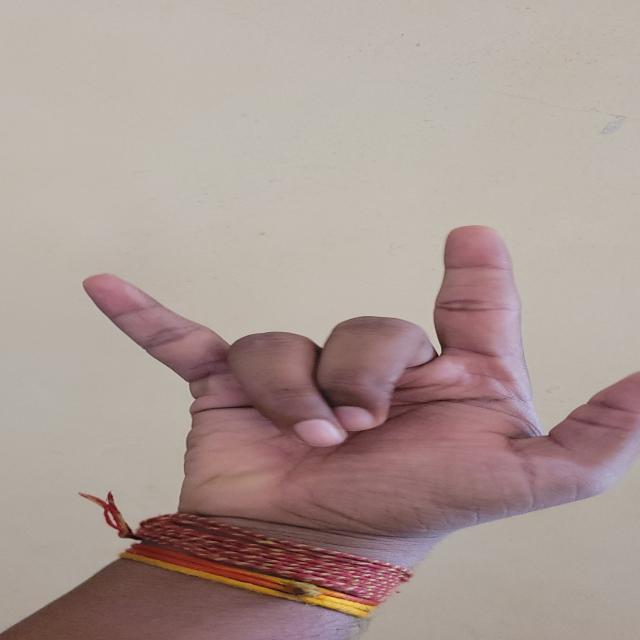i like you: (61, 193, 640, 517)
